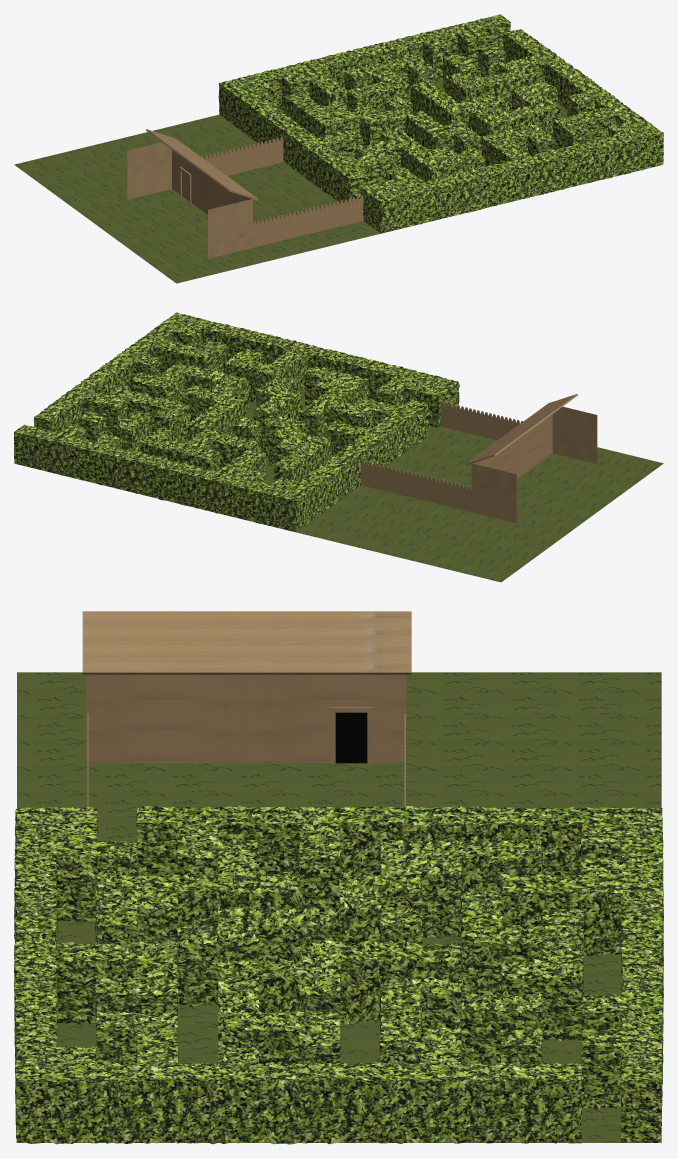
The model's file is Maze_env_3.fbx.
3 renders of one model, top to bottom at view 1: azimuth 30°, elevation 25°; view 2: azimuth 150°, elevation 25°; view 3: azimuth 270°, elevation 25°, orthographic. The views are drawn at different scales.
Parts seen in each view (by area): view 1: Cube.003; view 2: Cube.003; view 3: Cube.003.
Part boxes in pixels (x1=…): Cube.003: x1=14, y1=14, x2=663, y2=283; Cube.003: x1=14, y1=312, x2=663, y2=582; Cube.003: x1=14, y1=611, x2=663, y2=1144.
Bounding box in the file's own units: 4056 × 522 × 2359.
